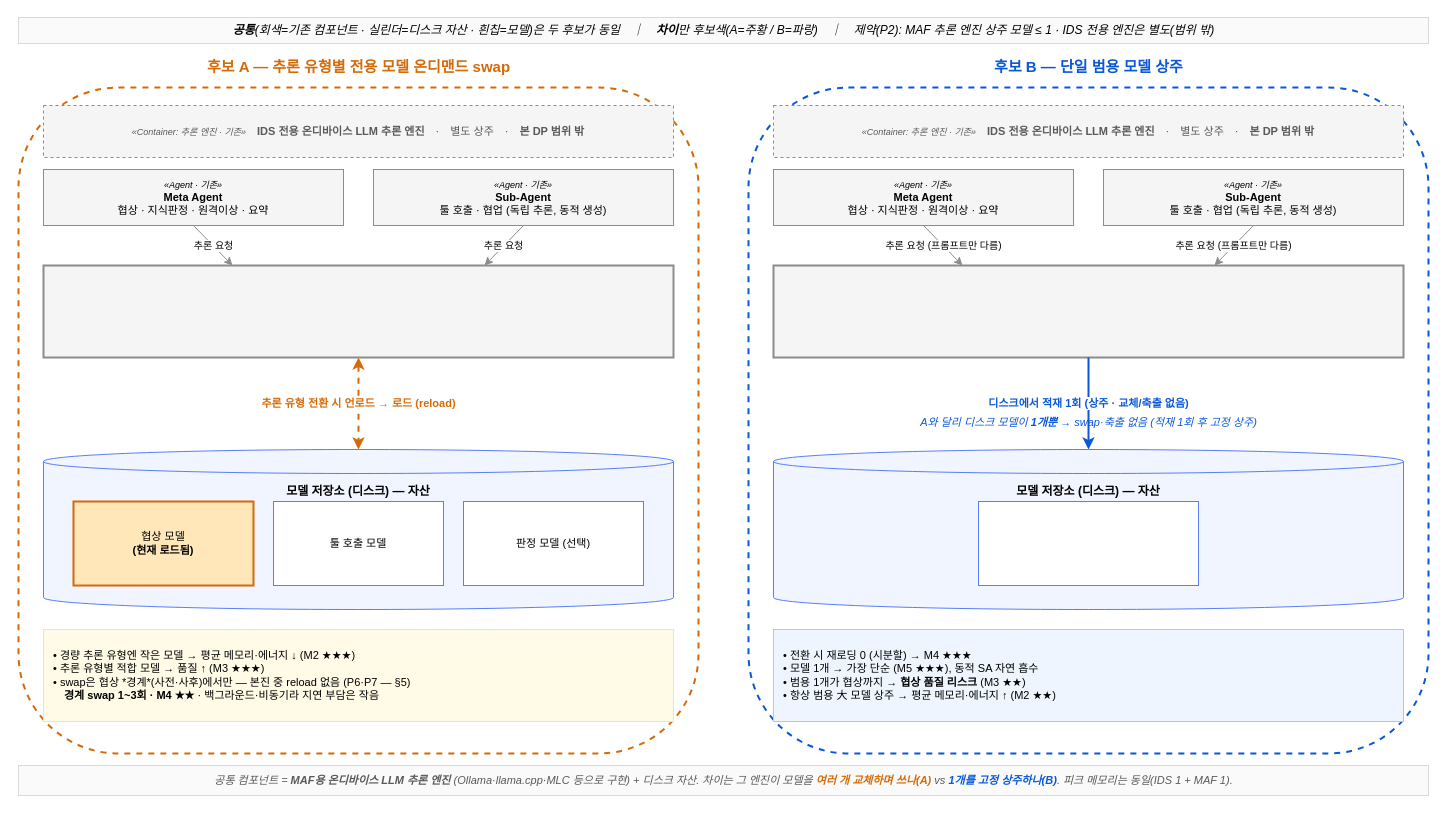
The diagram is 1446 pixels wide and 813 high, and some of its shapes have lost their labels. Each missing label, with the centre of its shape:
"«Container: 추론 엔진 · 기존» MAF용 온디바이스 LLM 추론 엔진 (NPU) 상주 모델 ≤ 1 · 현재 적재: 범용 모델 (고정)" belongs at point (1088, 311).
"«Container: 추론 엔진 · 기존» MAF용 온디바이스 LLM 추론 엔진 (NPU) 상주 모델 ≤ 1 · 현재 적재: 협상 모델" belongs at point (358, 311).
"범용 모델 (1개 · 적재 후 상주)" belongs at point (1088, 543).
